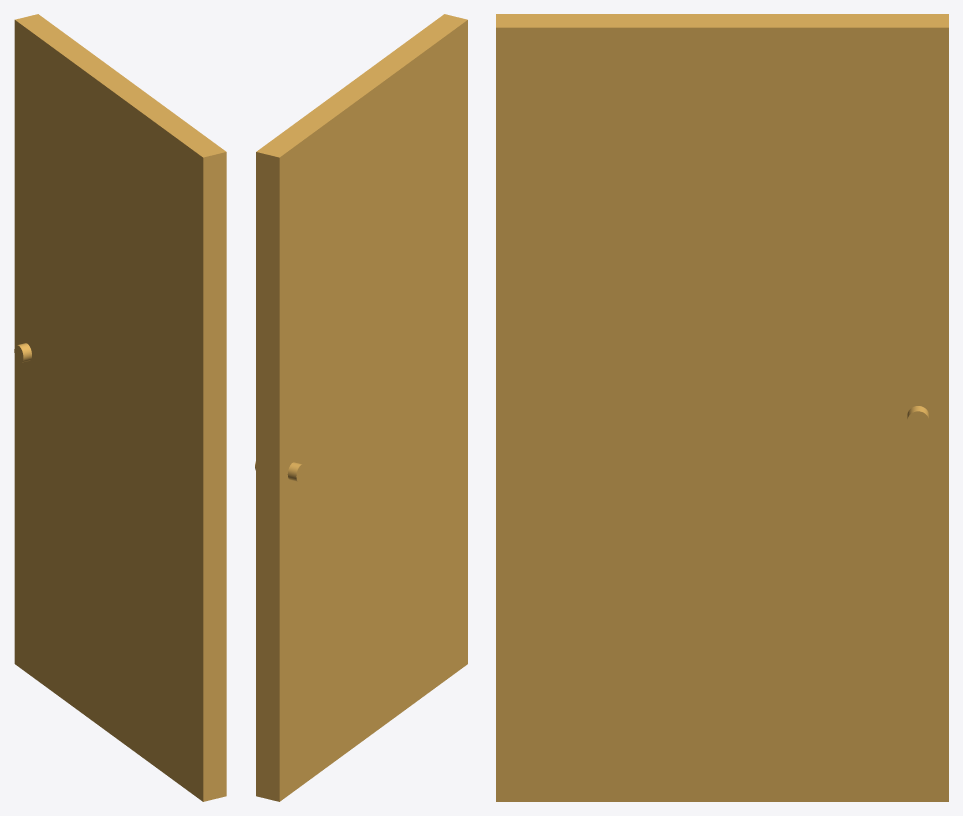
File: Doors.fbx
The picture shows the model from 3 angles, left to right: view 1: azimuth 30°, elevation 25°; view 2: azimuth 150°, elevation 25°; view 3: azimuth 270°, elevation 25°; orthographic projection. The views are drawn at different scales.
Parts seen in each view (by area): view 1: Cube; view 2: Cube; view 3: Cube.
Boxes of the visible parts, x1=… form: Cube: x1=14, y1=14, x2=226, y2=801; Cube: x1=255, y1=14, x2=467, y2=801; Cube: x1=496, y1=14, x2=948, y2=801.
Bounding box in the file's own units: 15.46 × 230 × 122.
